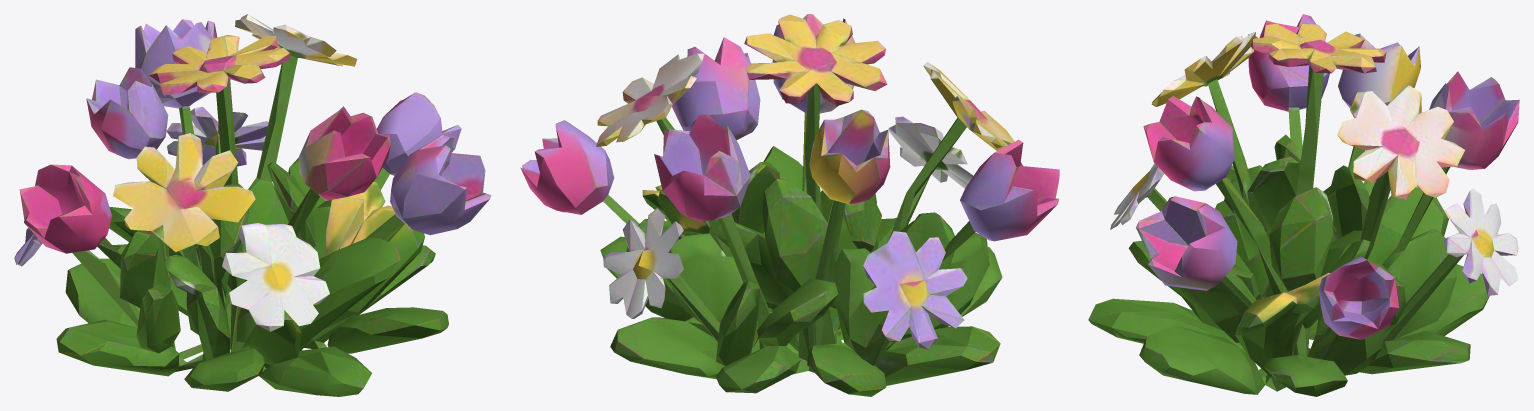
The picture shows the model from 3 angles, left to right: view 1: azimuth 30°, elevation 25°; view 2: azimuth 150°, elevation 25°; view 3: azimuth 270°, elevation 25°; orthographic projection. The views are drawn at different scales.
Bounding box in the file's own units: 1.9 × 1.21 × 1.49.
Materials: 1 (1 with a texture image).
